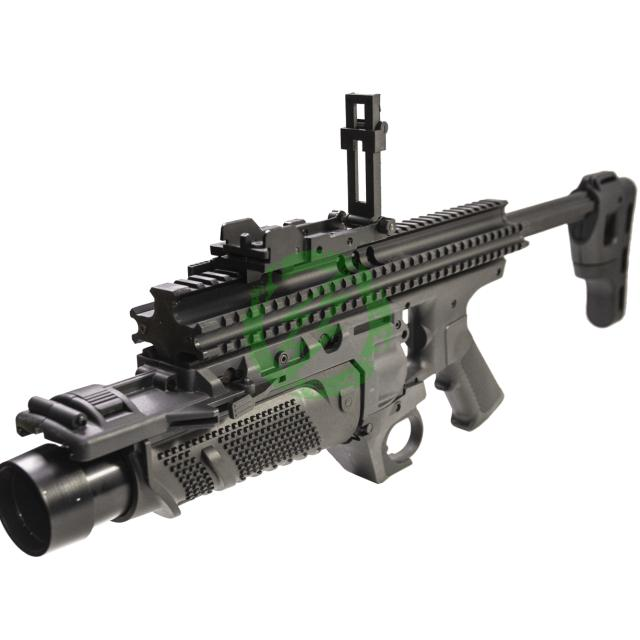Weapon: (0, 94, 635, 555)
